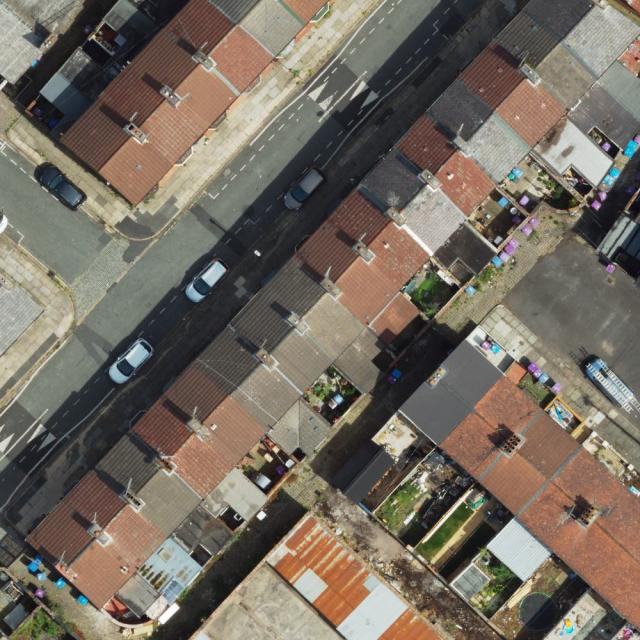roof: (24, 0, 640, 624), (401, 336, 640, 633), (41, 0, 333, 210), (190, 507, 456, 640)
